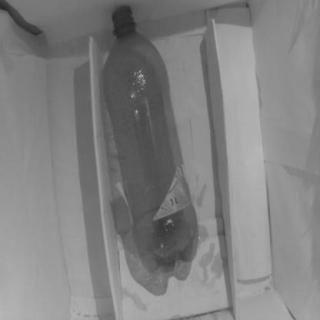plastic_bottles: (96, 2, 202, 273)
